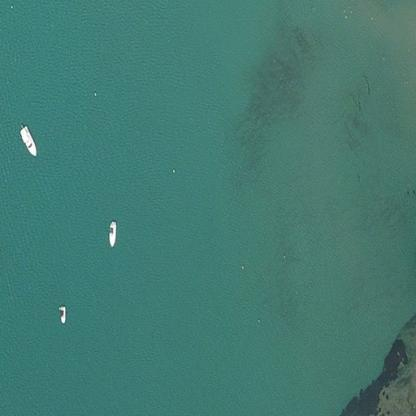ship: (15, 119, 40, 160), (102, 216, 122, 249), (55, 300, 69, 326)
